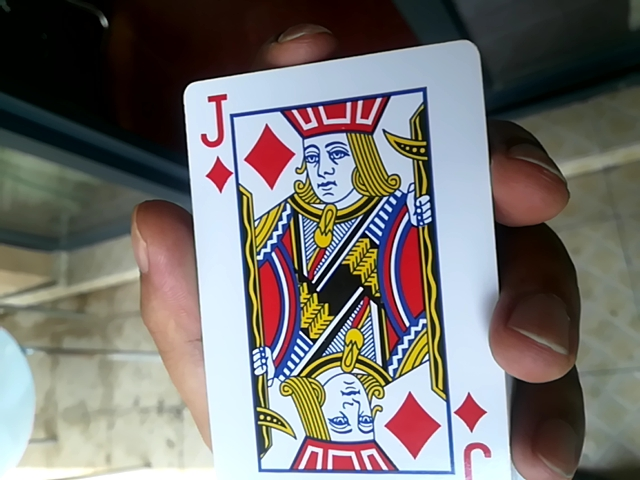fk j: (179, 44, 495, 478)
